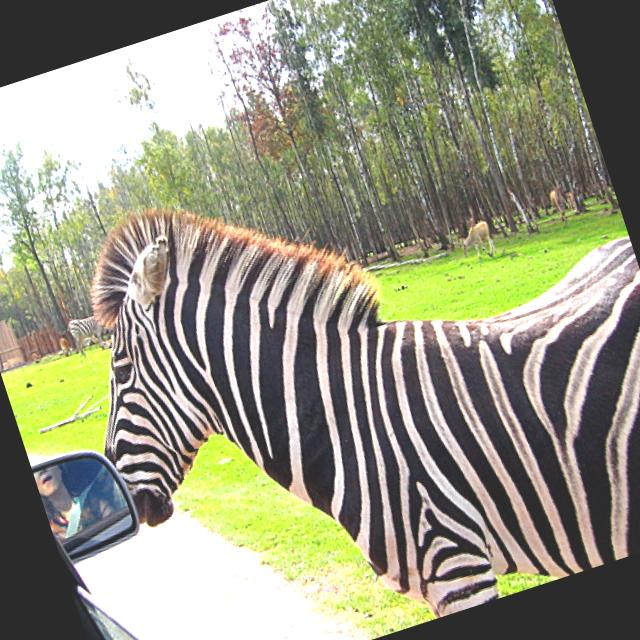Vehicle: (29, 436, 193, 640)
